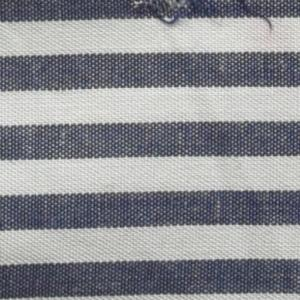Damage: (125, 1, 219, 28)
